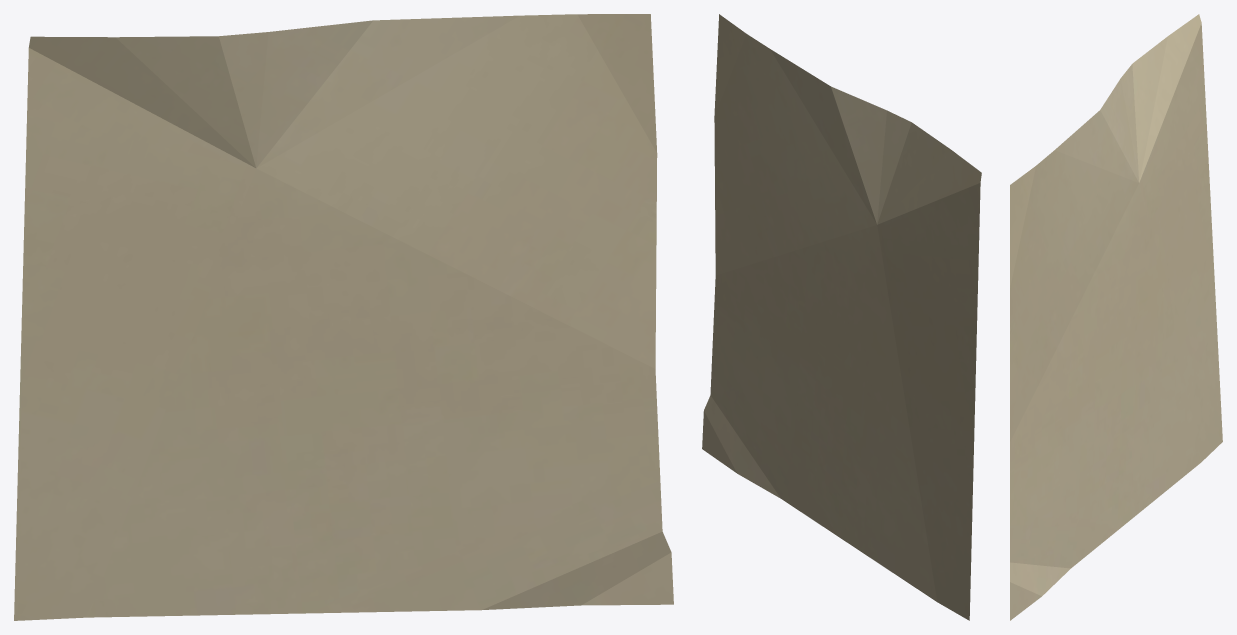
3 renders of one model, left to right at view 1: azimuth 30°, elevation 25°; view 2: azimuth 150°, elevation 25°; view 3: azimuth 270°, elevation 25°, orthographic. The views are drawn at different scales.
Bounding box in the file's own units: 0.7518 × 0.8374 × 0.3775.
3 materials, 3 textured.
